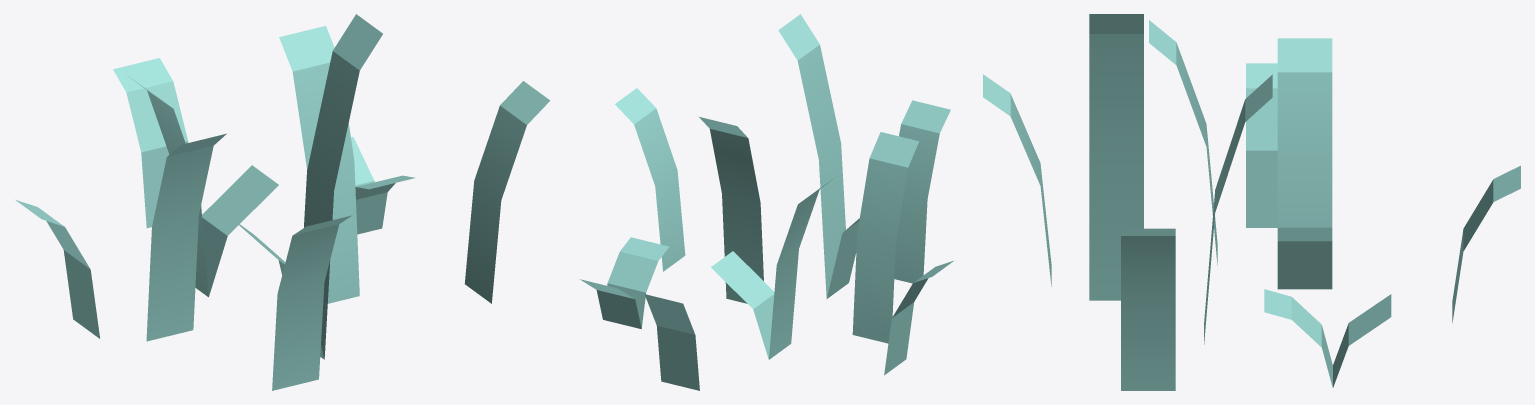
Rendered from grass.glb.
The picture shows the model from 3 angles, left to right: view 1: azimuth 30°, elevation 25°; view 2: azimuth 150°, elevation 25°; view 3: azimuth 270°, elevation 25°; orthographic projection. The views are drawn at different scales.
Visible parts, largest first — view 1: grass; view 2: grass; view 3: grass.
Boxes of the visible parts, x1,y1,x2,y2 form: grass: (15, 14, 550, 390); grass: (580, 14, 953, 390); grass: (983, 14, 1520, 390).
Bounding box in the file's own units: 0.3811 × 0.254 × 0.3922.
